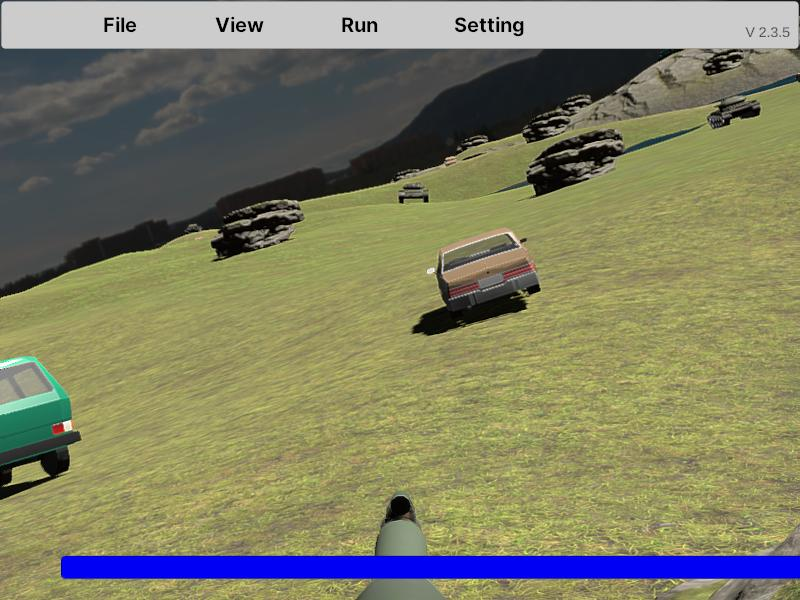Tank: (707, 94, 761, 129)
car: (0, 356, 81, 510), (426, 229, 541, 322)
